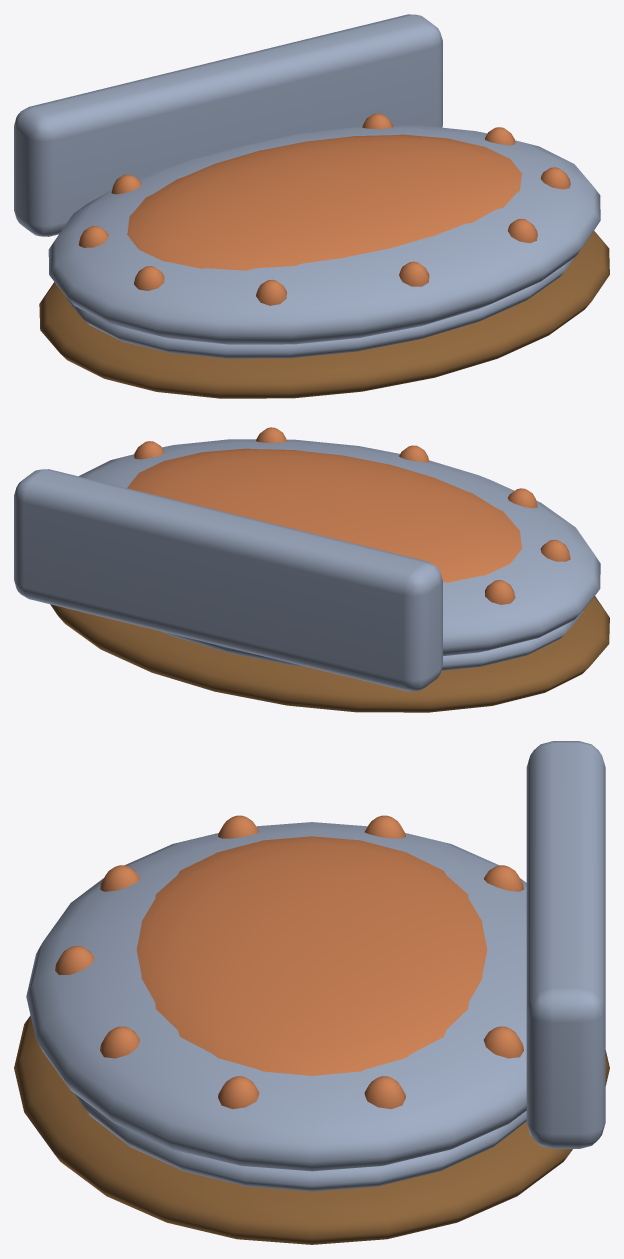
File: pet_bed_dog.glb
The picture shows the model from 3 angles, top to bottom: view 1: azimuth 30°, elevation 25°; view 2: azimuth 150°, elevation 25°; view 3: azimuth 270°, elevation 25°; orthographic projection. The views are drawn at different scales.
Visible parts, largest first — view 1: Dog bed bolster, Dog bed back, Dog bed hollow, Dog bed base, Dog bed cushion, Dog bed tuft.009, Dog bed tuft, Dog bed tuft.008, Dog bed tuft.001; view 2: Dog bed back, Dog bed hollow, Dog bed base, Dog bed bolster, Dog bed cushion, Dog bed tuft.007, Dog bed tuft.008, Dog bed tuft.009, Dog bed tuft.002; view 3: Dog bed bolster, Dog bed hollow, Dog bed base, Dog bed back, Dog bed cushion, Dog bed tuft.002, Dog bed tuft.003, Dog bed tuft.001, Dog bed tuft.004, Dog bed tuft, Dog bed tuft.006, Dog bed tuft.009 (+2 smaller).
Boxes of the visible parts, x1,y1,x2,y2 form: Dog bed bolster: (48, 125, 600, 344); Dog bed back: (14, 14, 442, 236); Dog bed hollow: (127, 134, 522, 270); Dog bed base: (39, 231, 609, 398); Dog bed cushion: (66, 257, 574, 358); Dog bed tuft.009: (256, 279, 286, 305); Dog bed tuft: (399, 261, 429, 286); Dog bed tuft.008: (134, 266, 164, 290); Dog bed tuft.001: (507, 218, 537, 243); Dog bed back: (14, 469, 442, 691); Dog bed hollow: (127, 448, 522, 582); Dog bed base: (50, 596, 609, 712); Dog bed bolster: (79, 439, 600, 656); Dog bed cushion: (161, 610, 583, 670); Dog bed tuft.007: (485, 580, 515, 604); Dog bed tuft.008: (540, 539, 570, 561); Dog bed tuft.009: (508, 488, 537, 508); Dog bed tuft.002: (134, 441, 164, 459); Dog bed bolster: (26, 822, 526, 1171); Dog bed hollow: (136, 836, 487, 1075); Dog bed base: (14, 1015, 609, 1244); Dog bed back: (526, 741, 605, 1148); Dog bed cushion: (74, 1093, 526, 1191); Dog bed tuft.002: (218, 1076, 259, 1109); Dog bed tuft.003: (364, 1076, 405, 1109); Dog bed tuft.001: (100, 1026, 140, 1058); Dog bed tuft.004: (483, 1026, 523, 1058); Dog bed tuft: (55, 946, 94, 974); Dog bed tuft.006: (484, 865, 523, 891); Dog bed tuft.009: (100, 865, 139, 891).
Size of the model in its own units: 0.92 by 0.315 by 0.68.
